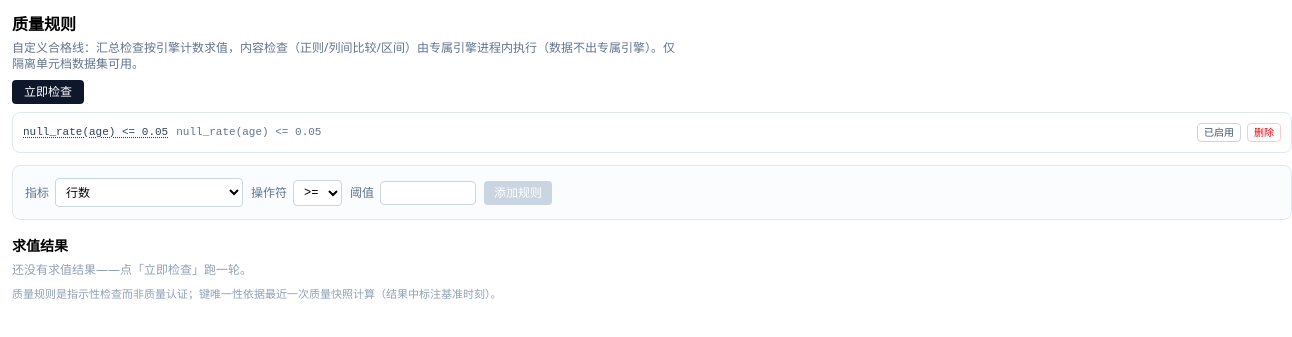
DatasetQualityRulesSection 运行与启停/改名（wire-quality-rules） › 立即检查：POST run（Bearer）→ 用返回结果就地刷新（空态消失、徽章更新）
Expected: the list item with test id "quality-rule-item-r1" is shown, [12,112,1291,153]
Expected: the text "还没有求值结果——点「立即检查」跑一轮。" is shown, [12,261,252,278]
Click the button with test id "quality-rules-run": click(48, 92) [12,80,84,104]
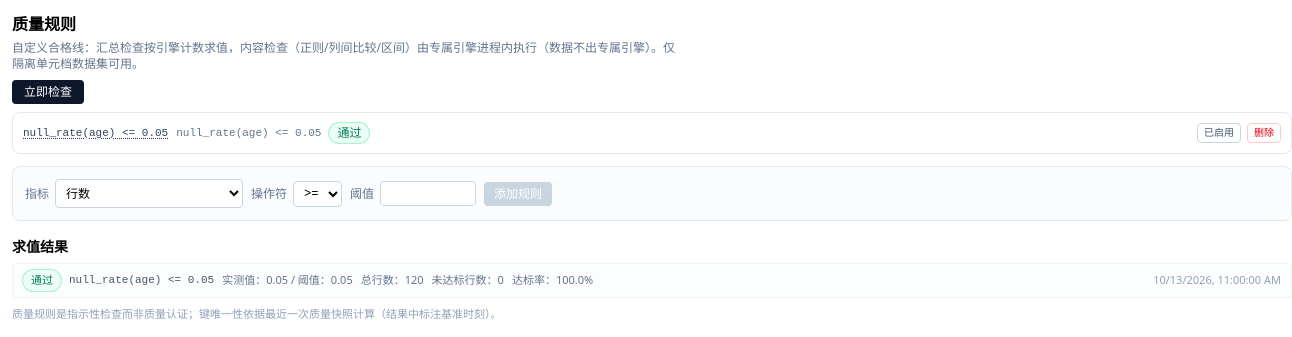
Now the list with test id "quality-rules-results" is shown, box [12,263,1291,298]
Now the text with test id "quality-rules-results-empty" is gone
